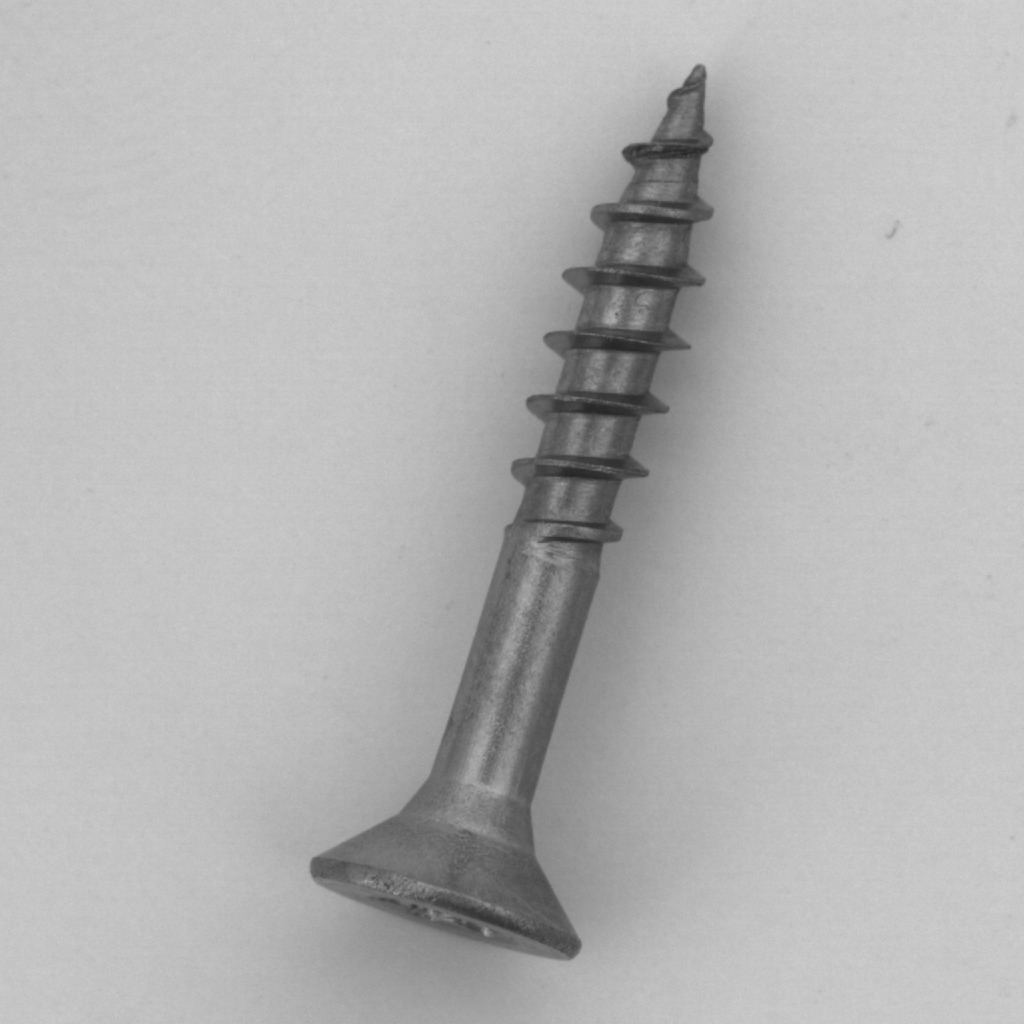good: (292, 49, 734, 973)
